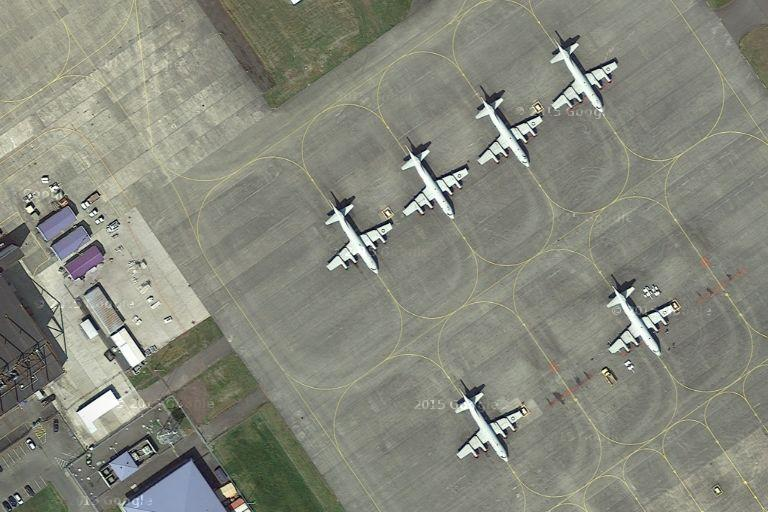P-3C: (316, 195, 398, 278), (448, 387, 528, 468), (394, 141, 471, 222), (603, 282, 678, 362), (471, 95, 547, 173), (546, 39, 621, 116)
